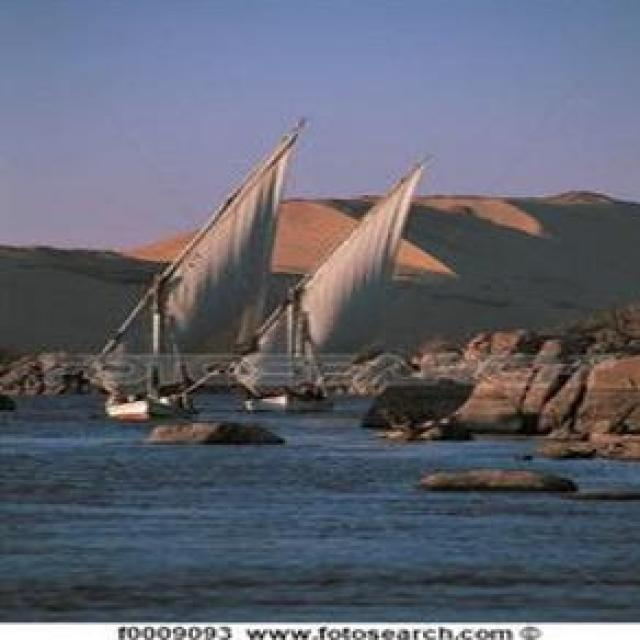sailboat: (80, 124, 274, 416), (239, 172, 396, 428)
